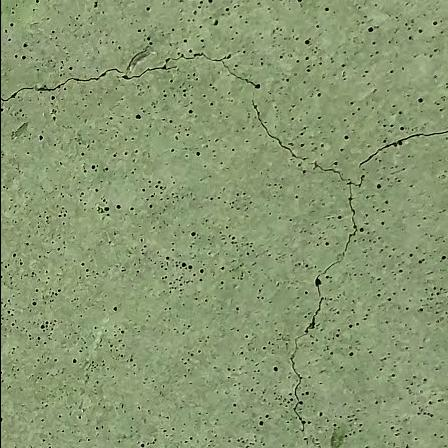crack: (249, 86, 391, 436), (119, 47, 262, 90), (351, 119, 448, 172), (0, 64, 124, 103)
